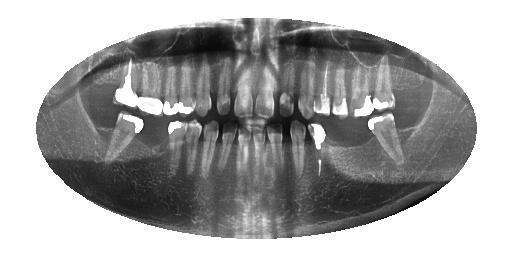i10healthy: (215, 119, 239, 189)
i11healthy: (193, 120, 221, 185)
i12healthy: (177, 118, 206, 189)
i13healthy: (164, 116, 189, 186)
i14loss: (136, 112, 173, 181)
i15healthy: (98, 106, 147, 175)
i2healthy: (367, 112, 403, 168)
i3loss: (345, 117, 376, 168)
i4loss: (323, 118, 352, 179)
i5healthy: (302, 116, 332, 181)
i6healthy: (283, 116, 313, 187)
i7chipped: (262, 119, 290, 191)
i8healthy: (248, 119, 268, 191)
i9healthy: (233, 117, 255, 194)
u10healthy: (210, 48, 235, 121)
u11healthy: (190, 53, 214, 121)
u12healthy: (174, 54, 197, 124)
u13healthy: (163, 52, 180, 119)
u14healthy: (133, 55, 164, 119)
u15healthy: (108, 49, 144, 111)
u2healthy: (370, 47, 400, 117)
u3healthy: (348, 56, 377, 123)
u4healthy: (329, 46, 351, 120)
u5healthy: (309, 54, 334, 121)
u6healthy: (295, 43, 320, 122)
u7healthy: (276, 41, 298, 120)
u8healthy: (253, 46, 278, 121)
u9healthy: (231, 48, 254, 124)
